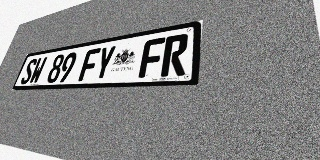8: (45, 53, 66, 83)
9: (57, 51, 78, 82)
F: (138, 37, 165, 78), (78, 48, 101, 81)
R: (160, 33, 189, 77)
S: (19, 58, 38, 84)
W: (28, 57, 48, 84)
Y: (93, 45, 117, 80)
